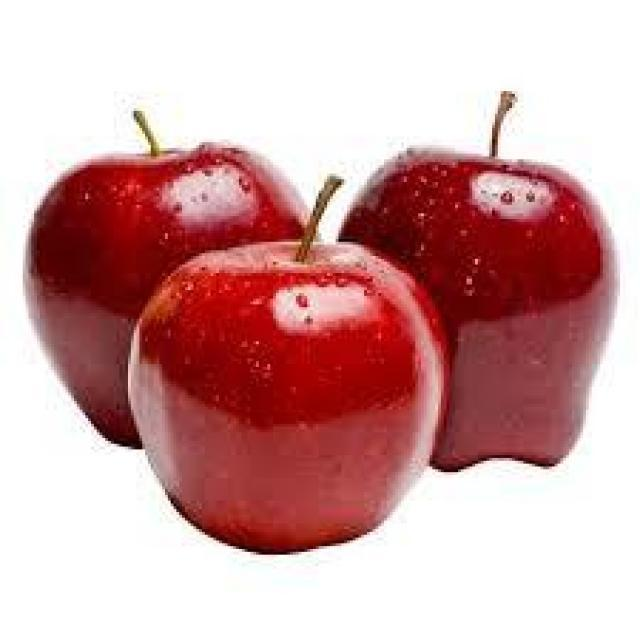apple: (126, 176, 446, 554), (333, 91, 618, 471), (22, 111, 326, 447)
